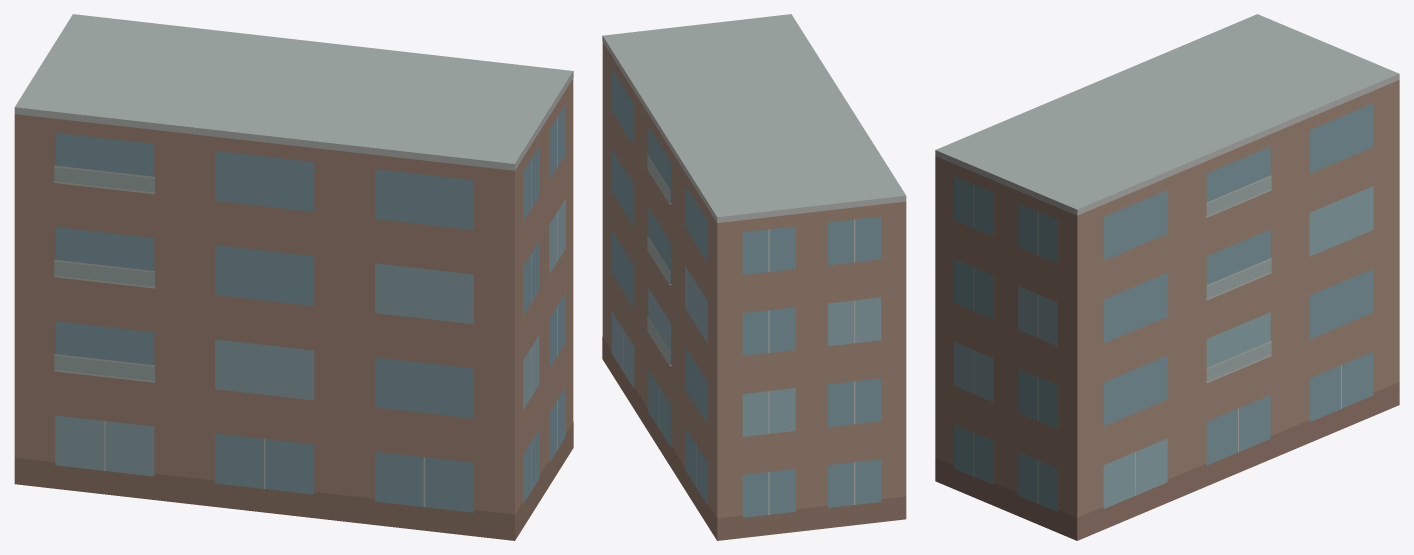
Rendered from survey-upis-33042232.glb.
3 views of the same model, side by side, from view 1: azimuth 30°, elevation 25°; view 2: azimuth 150°, elevation 25°; view 3: azimuth 270°, elevation 25° (orthographic). The views are drawn at different scales.
Visible parts, largest first — view 1: survey-upis-33042232.tmp; view 2: survey-upis-33042232.tmp; view 3: survey-upis-33042232.tmp.
Part boxes in pixels (left/top/right/bottom): survey-upis-33042232.tmp: left=14, top=14, right=573, bottom=540; survey-upis-33042232.tmp: left=602, top=14, right=906, bottom=540; survey-upis-33042232.tmp: left=935, top=14, right=1399, bottom=540.
Size of the model in its own units: 17.11 by 13.5 by 17.16.
